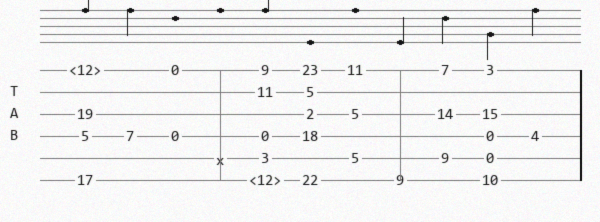0: (171, 129, 183, 143), (171, 63, 183, 77), (261, 129, 273, 143), (486, 151, 498, 165), (486, 129, 498, 143)
10: (482, 173, 502, 187)
11: (257, 85, 277, 99), (347, 63, 367, 77)
14: (437, 107, 457, 121)
15: (482, 107, 502, 121)
17: (77, 173, 97, 187)
18: (302, 129, 322, 143)
19: (77, 107, 97, 121)
2: (306, 107, 318, 121)
22: (302, 173, 322, 187)
23: (302, 63, 322, 77)
3: (261, 151, 273, 165), (486, 63, 498, 77)
4: (531, 129, 543, 143)
5: (81, 129, 93, 143), (306, 85, 318, 99), (351, 107, 363, 121), (351, 151, 363, 165)
7: (126, 129, 138, 143), (441, 63, 453, 77)
9: (261, 63, 273, 77), (396, 173, 408, 187), (441, 151, 453, 165)
harmonic: (69, 63, 105, 77), (249, 173, 285, 187)
x: (216, 153, 228, 164)
